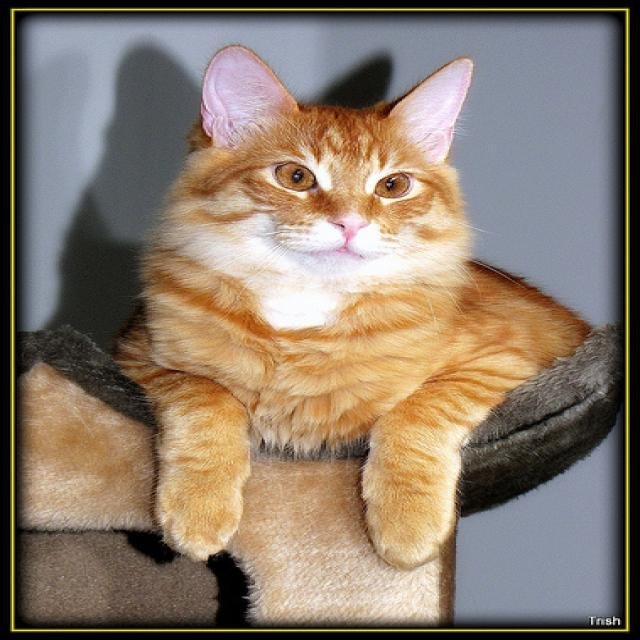Maine_Coon: (156, 40, 472, 303)
